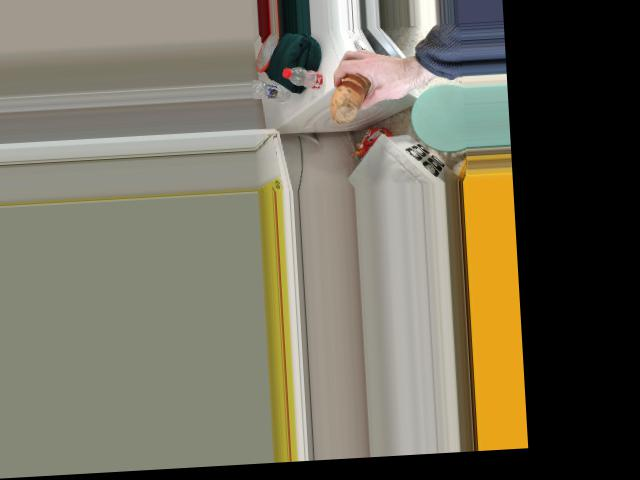sweet_potato: (326, 70, 372, 115)
